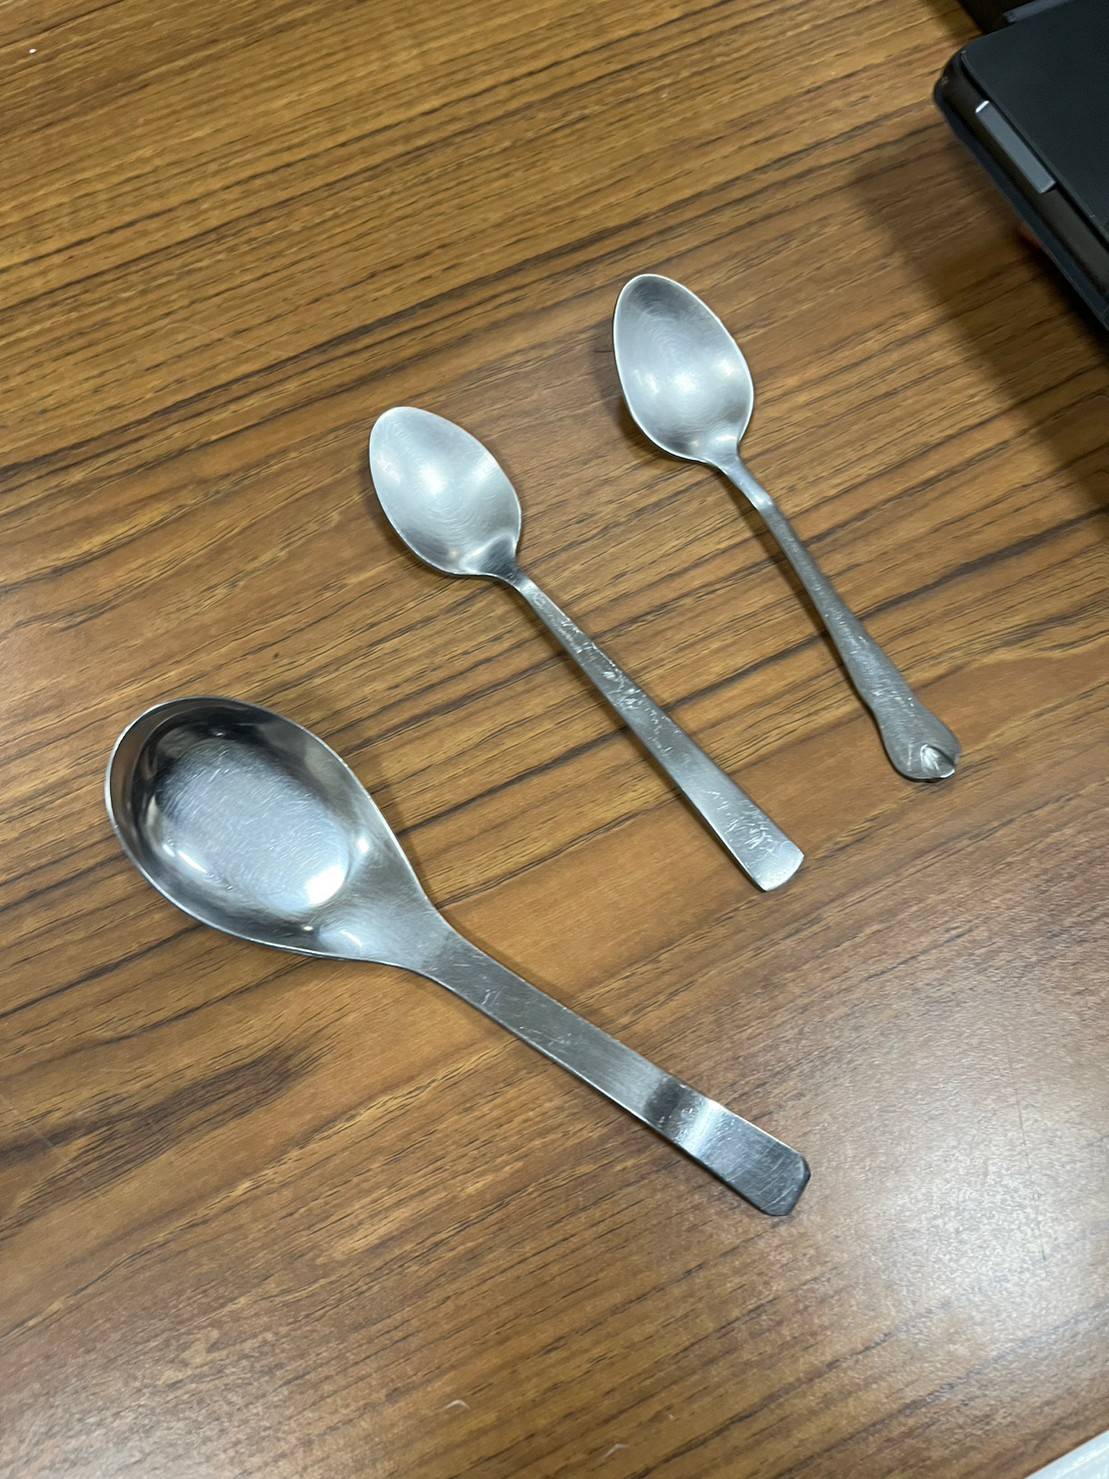spoon: (90, 682, 821, 1236), (349, 391, 812, 900), (596, 249, 965, 811)
